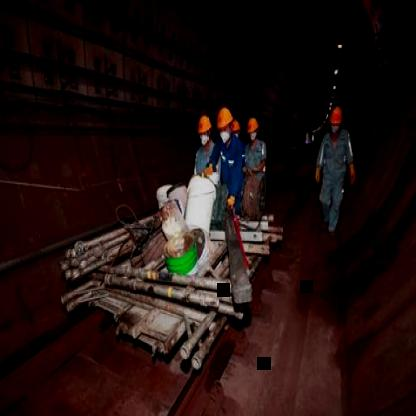helmet: (213, 106, 233, 138), (195, 114, 214, 146), (328, 102, 346, 134), (229, 116, 241, 146), (247, 118, 261, 143)
